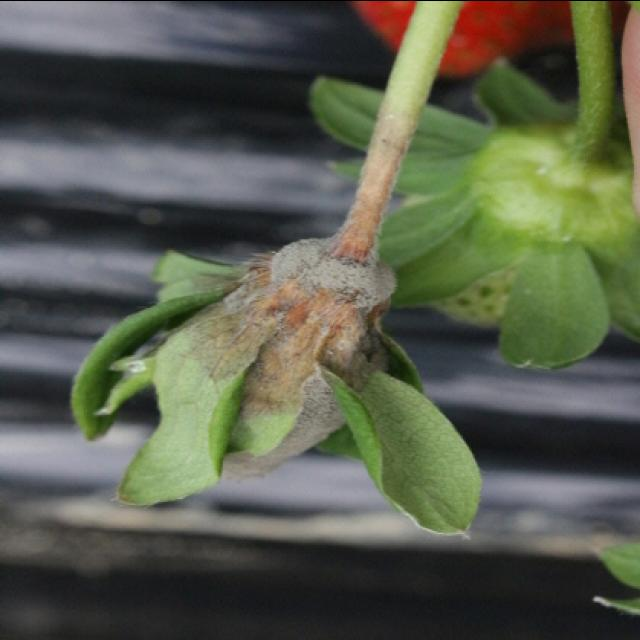Gray Mold: (185, 211, 398, 483)
